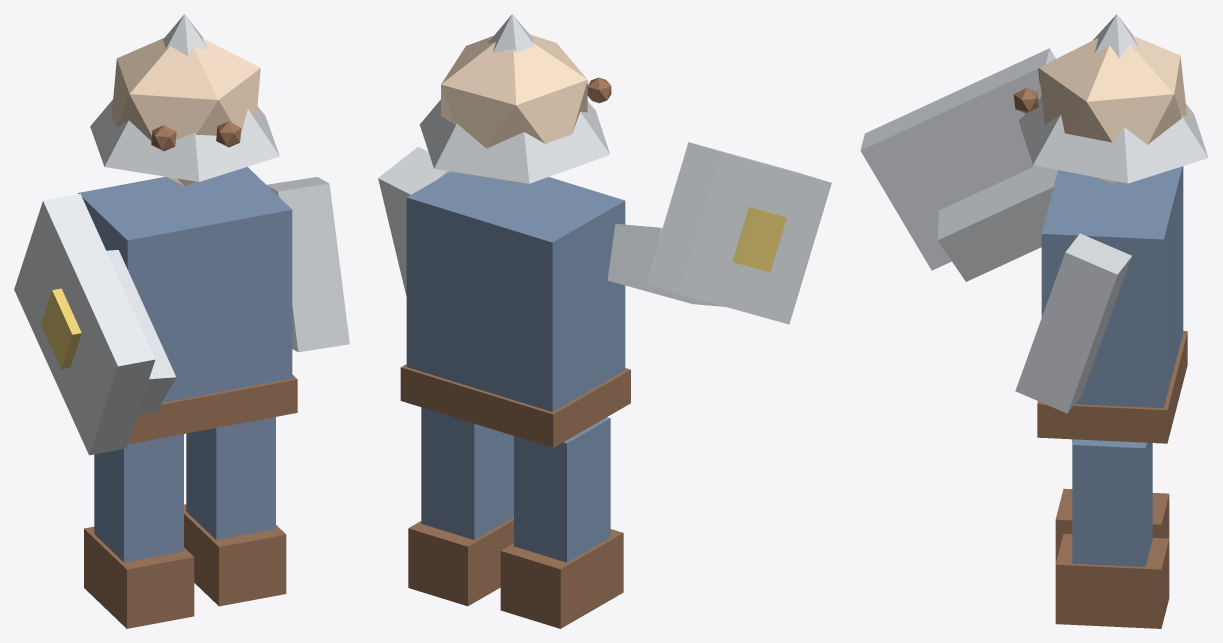
File: npcpose_guard_idle_08.glb
The picture shows the model from 3 angles, left to right: view 1: azimuth 30°, elevation 25°; view 2: azimuth 150°, elevation 25°; view 3: azimuth 270°, elevation 25°; orthographic projection.
Parts seen in each view (by area): view 1: npcpose; view 2: npcpose; view 3: npcpose.
Part boxes in pixels (x1,y1,x2,y2): npcpose: (14, 14, 349, 628); npcpose: (378, 14, 831, 628); npcpose: (860, 14, 1208, 628).
Size of the model in its own units: 0.9197 by 1.55 by 0.8499.
